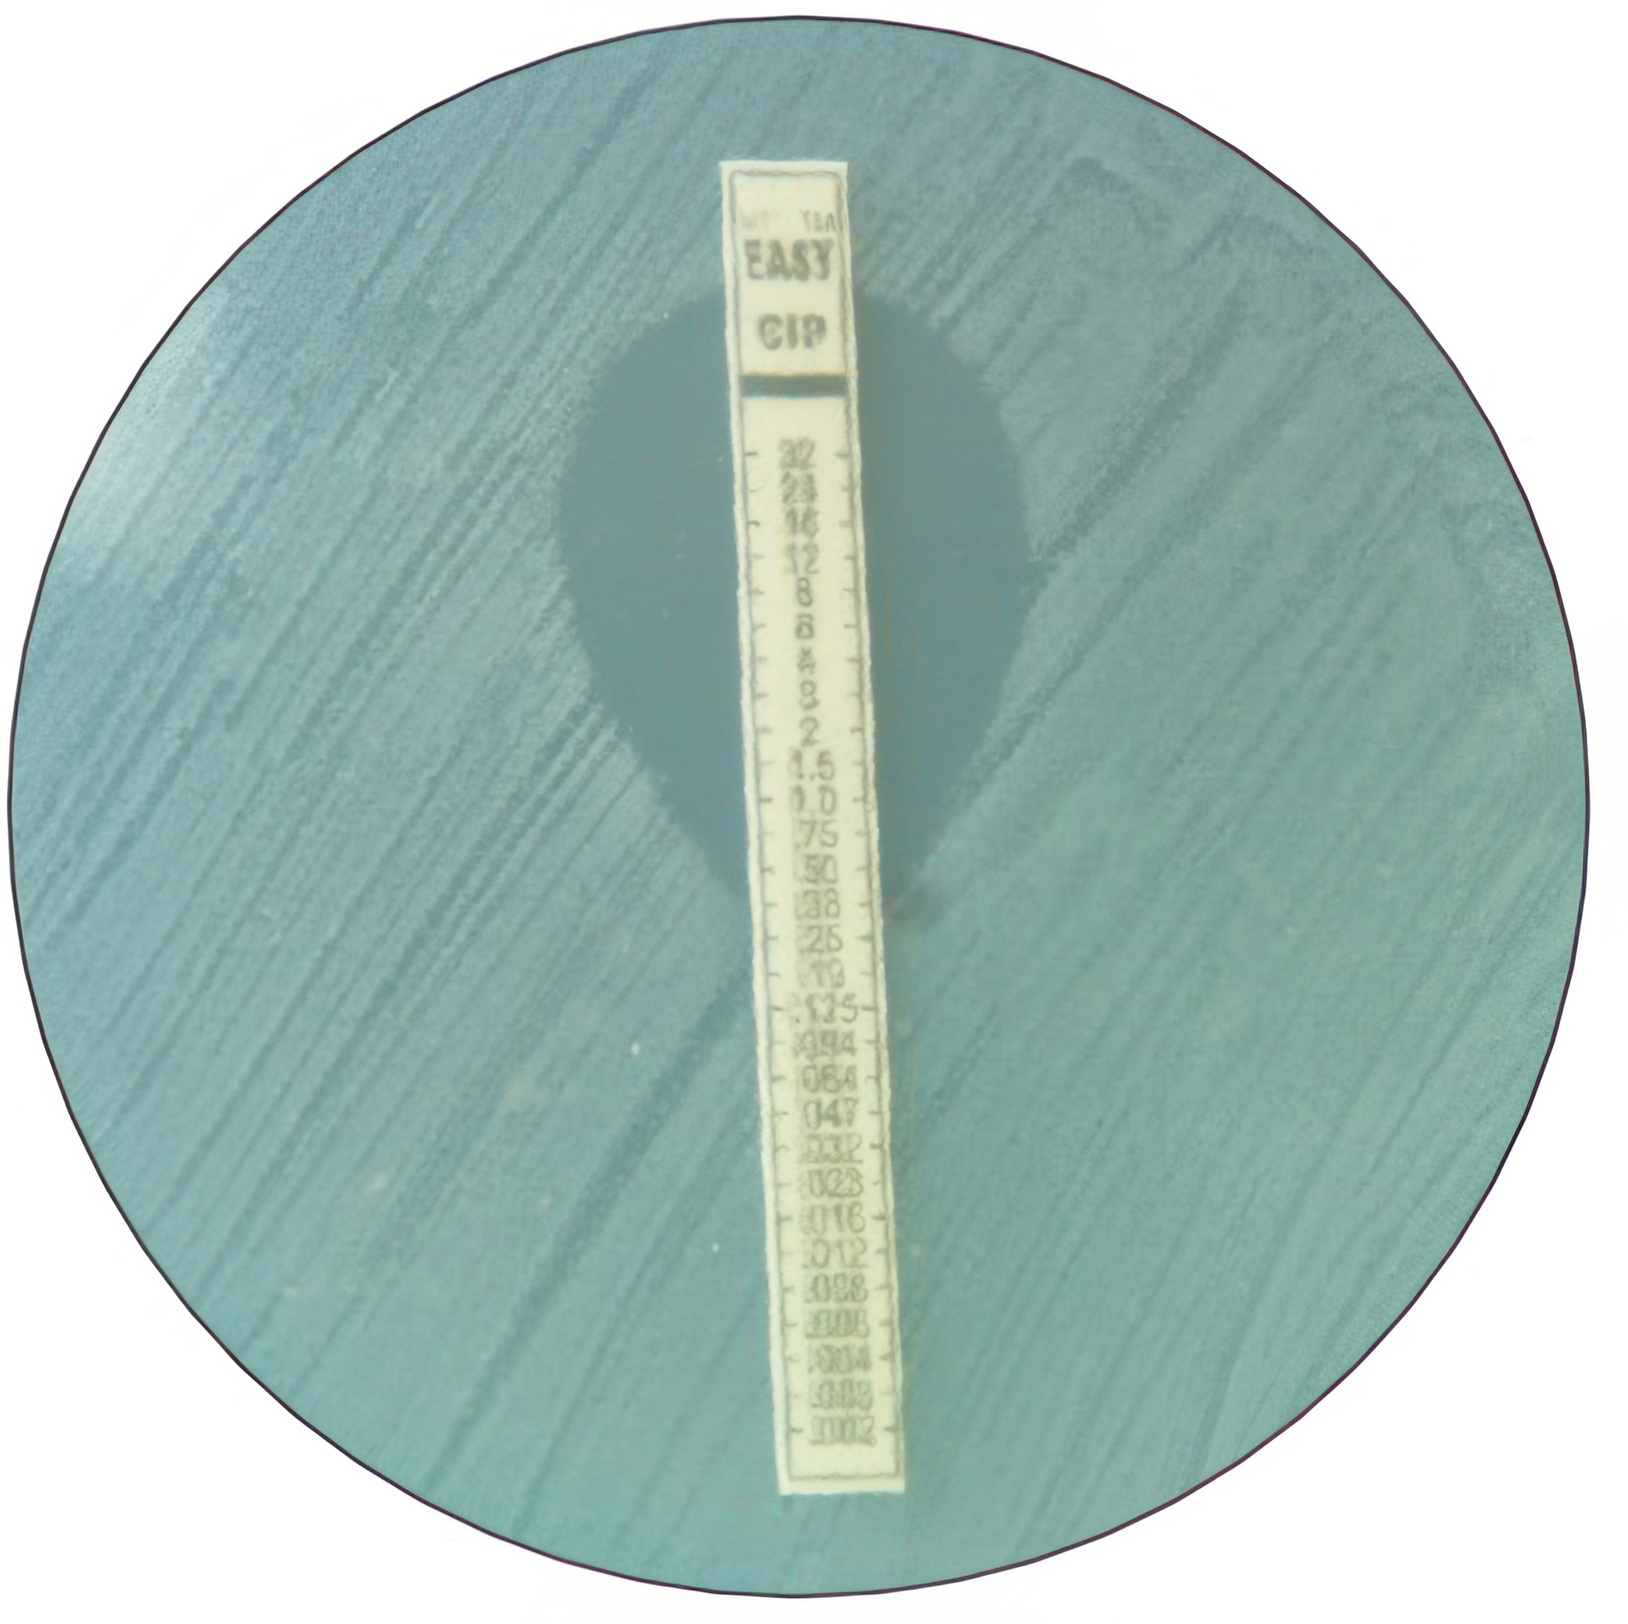line: (709, 153, 913, 1499)
zone: (559, 280, 1036, 909)
